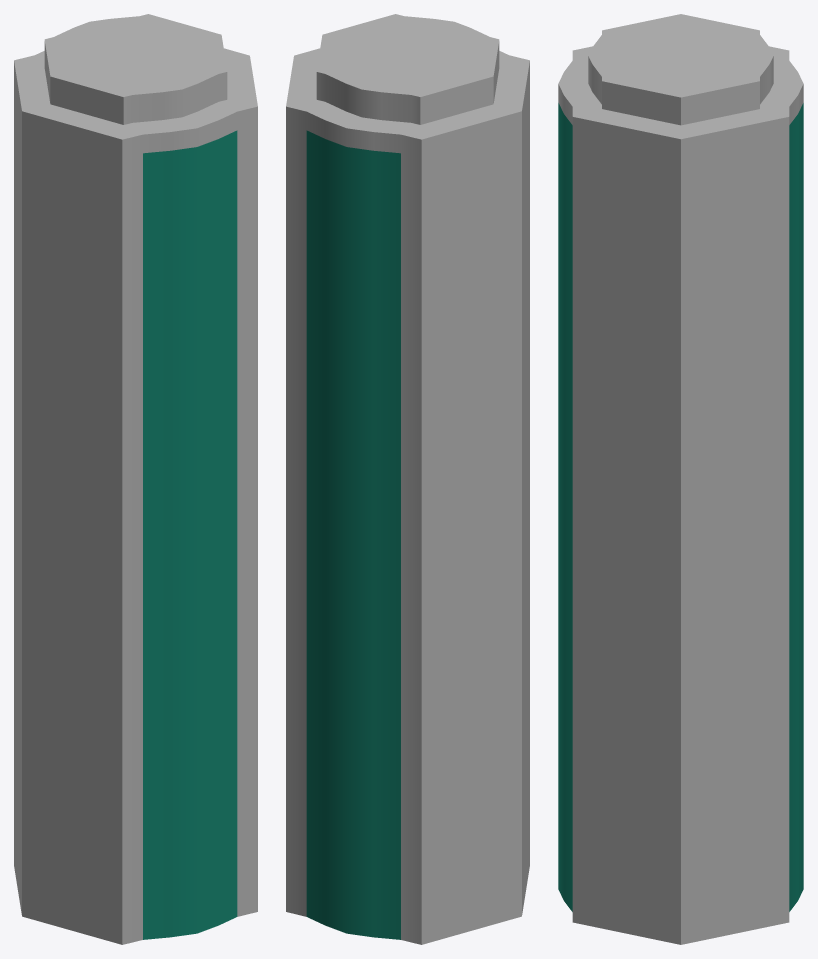
File: Predio_B01.fbx
3 renders of one model, left to right at view 1: azimuth 30°, elevation 25°; view 2: azimuth 150°, elevation 25°; view 3: azimuth 270°, elevation 25°, orthographic.
Parts seen in each view (by area): view 1: Cube; view 2: Cube; view 3: Cube.
Part boxes in pixels (x1,y1,x2,y2): Cube: (14, 14, 257, 944); Cube: (286, 14, 529, 944); Cube: (558, 14, 803, 944).
Size of the model in its own units: 243 by 848 by 226.
